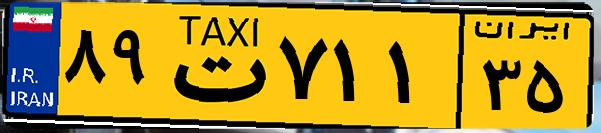1: (385, 28, 445, 110), (330, 28, 385, 110)
3: (475, 38, 525, 113)
5: (525, 38, 570, 115)
7: (270, 28, 330, 110)
8: (57, 26, 110, 100)
9: (110, 28, 158, 98)
ت: (158, 12, 270, 120)
